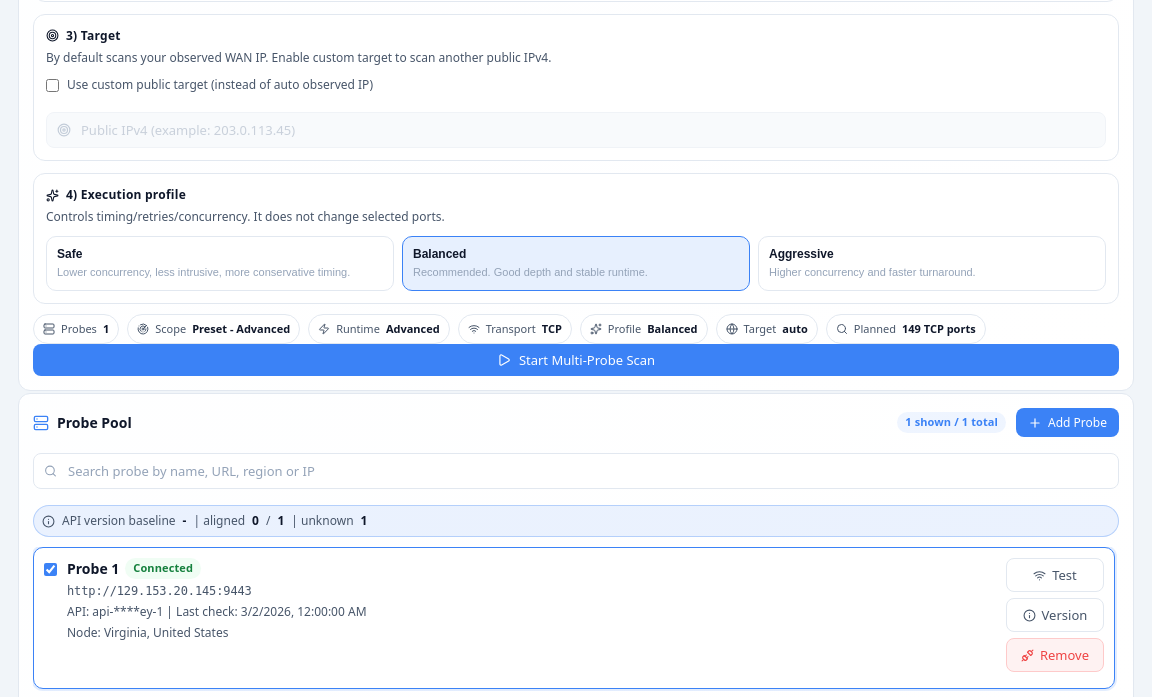
WanProbe scan flow › reset results returns to setup and clears report state
(page scrolled)
Expected: the text "1 shown / 1 total" is shown, top-left (897, 412), bottom-right (1006, 432)
Click the button "Start Multi-Probe Scan" at [576, 360], box top-left (33, 344), bottom-right (1119, 376)
(page scrolled)
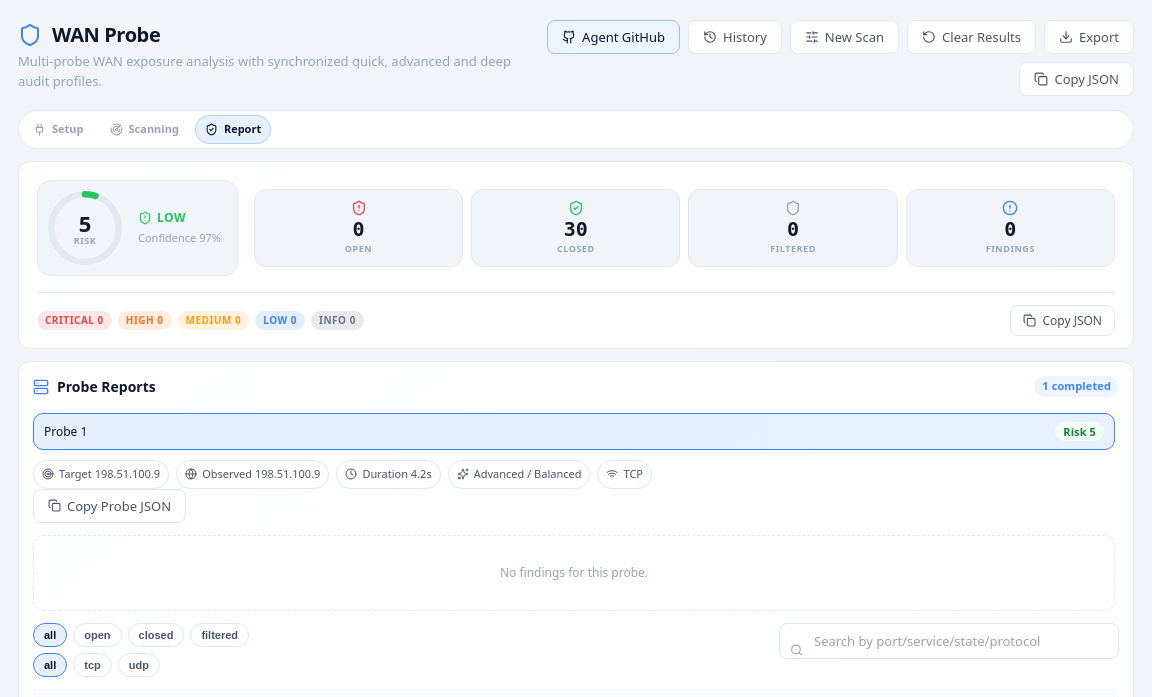
Expected: the text "Probe Reports" is shown, top-left (33, 376), bottom-right (156, 396)
Click the button "Clear Results" at [972, 37], box top-left (907, 20), bottom-right (1036, 54)
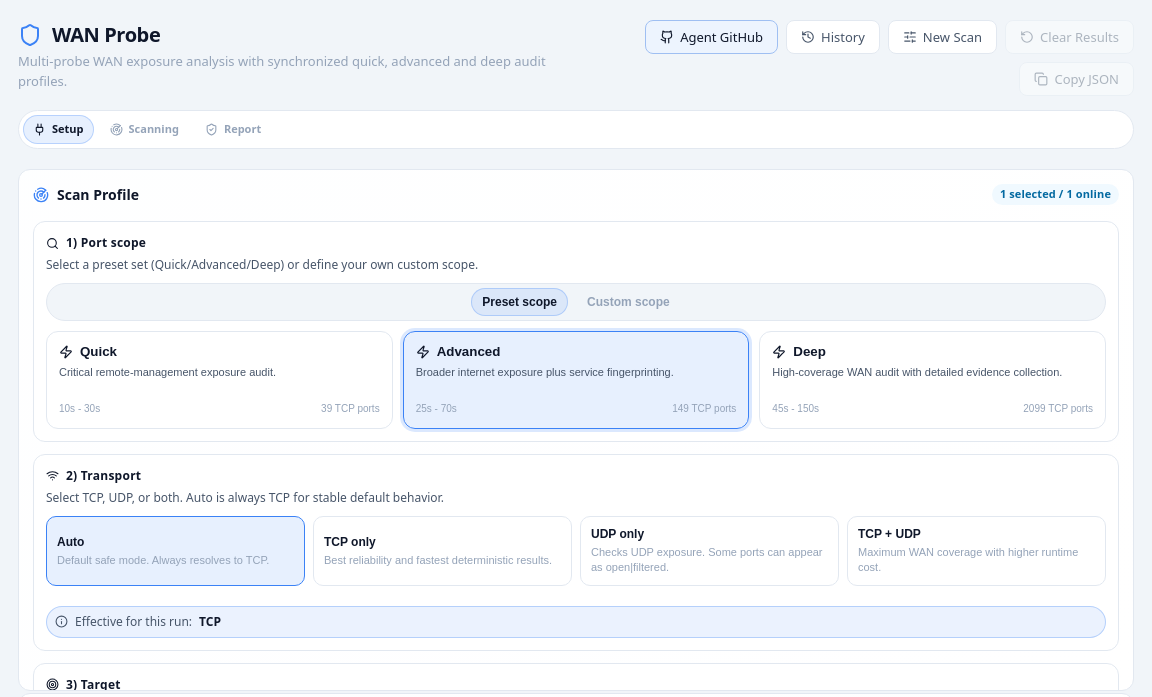
Expected: the text "Scan Profile" is shown, top-left (33, 184), bottom-right (139, 204)
Expected: the text "Probe Reports" is gone
Expected: the button "Clear Results" is disabled, top-left (1005, 20), bottom-right (1134, 54)
